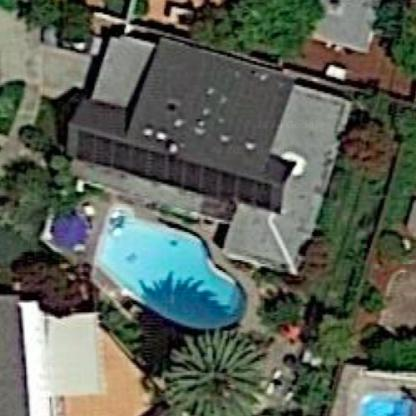solar_panel: (76, 128, 278, 219)
swimming_pool: (97, 198, 253, 344), (336, 358, 415, 416)
